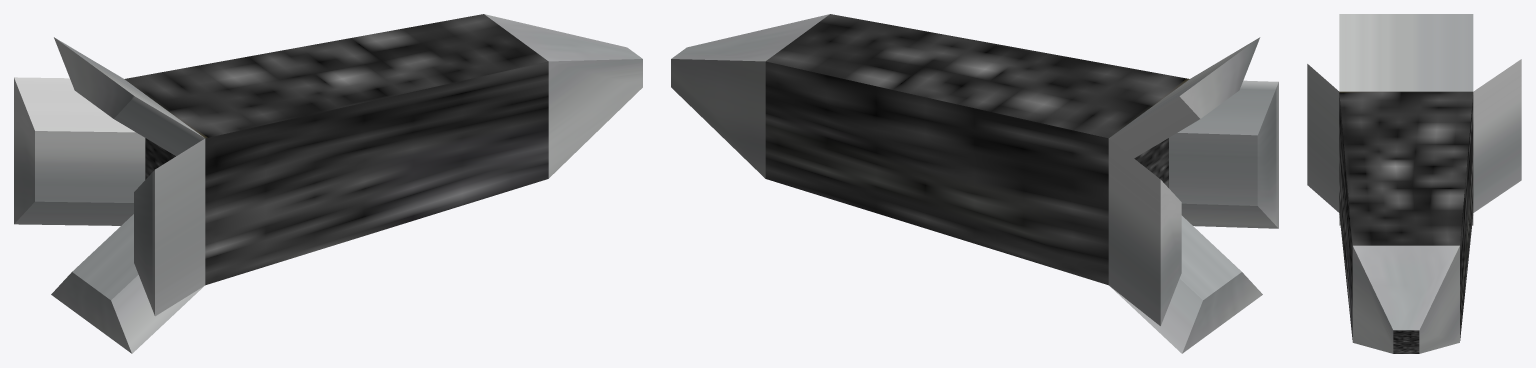
File: rocket.glb
3 renders of one model, left to right at view 1: azimuth 30°, elevation 25°; view 2: azimuth 150°, elevation 25°; view 3: azimuth 270°, elevation 25°, orthographic. The views are drawn at different scales.
Parts seen in each view (by area): view 1: Rocket; view 2: Rocket; view 3: Rocket.
Part boxes in pixels (x1,y1,x2,y2): Rocket: (14,14,642,353); Rocket: (671,14,1278,353); Rocket: (1307,14,1521,353).
Bounding box in the file's own units: 2.87 × 1.28 × 1.17.
1 material, 1 textured.
